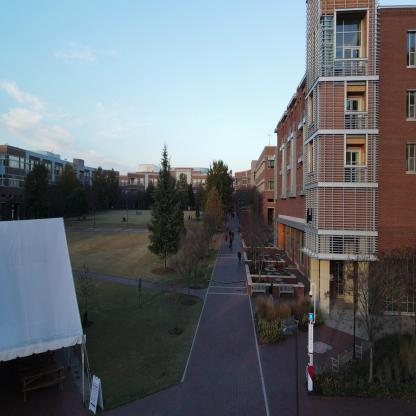Wolf Ridge: (274, 13, 416, 346)
